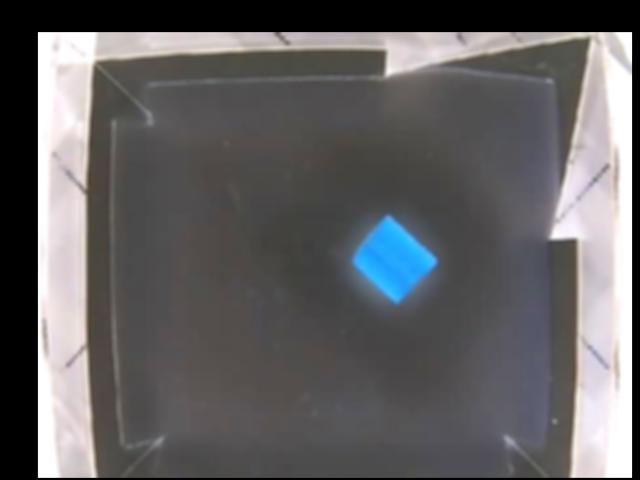Carrot: (354, 213, 436, 305)
